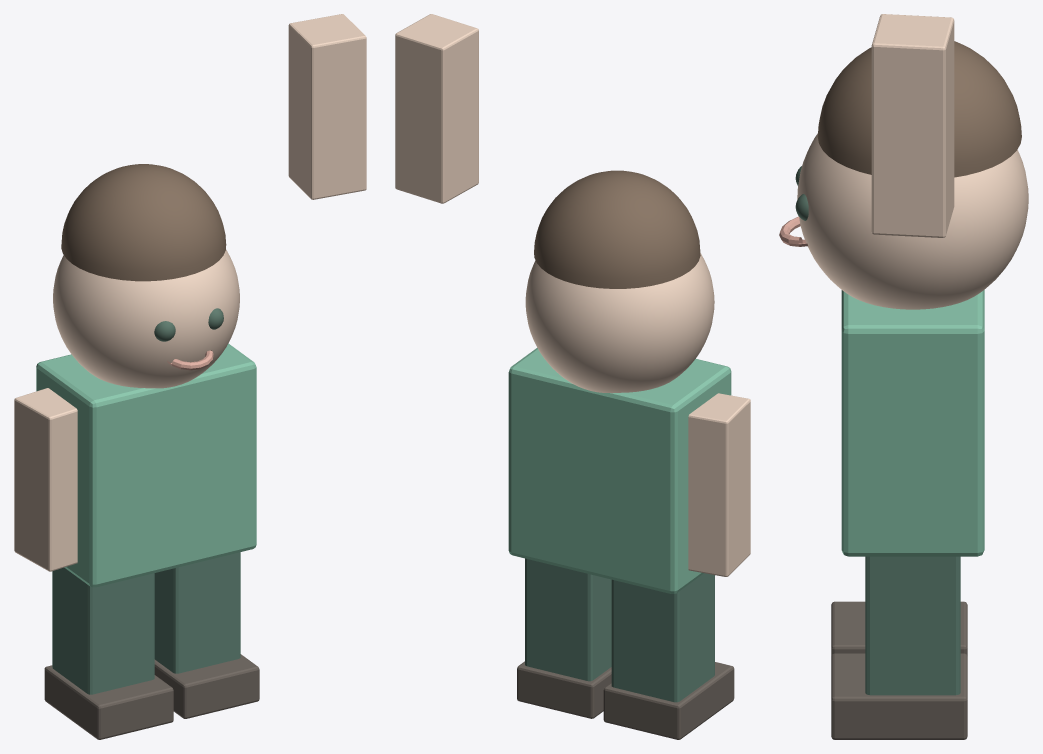
The model's file is character.glb.
3 views of the same model, side by side, from view 1: azimuth 30°, elevation 25°; view 2: azimuth 150°, elevation 25°; view 3: azimuth 270°, elevation 25° (orthographic). The views are drawn at different scales.
Visible parts, largest first — view 1: Shirt, Head, Hair, ArmRLimb, PantsL, ArmL, PantsR, ShoesL, ShoesR; view 2: Shirt, Head, Hair, ArmRLimb, PantsL, ArmL, PantsR, ShoesL, ShoesR; view 3: Shirt, Head, ArmRLimb, PantsR, Hair, ShoesR, ShoesL, Smile.
Boxes of the visible parts, x1,y1,x2,y2 form: Shirt: [36, 343, 256, 587]; Head: [53, 249, 239, 388]; Hair: [61, 164, 226, 281]; ArmRLimb: [288, 14, 366, 199]; PantsL: [52, 567, 154, 694]; ArmL: [14, 388, 77, 571]; PantsR: [154, 552, 240, 673]; ShoesL: [44, 665, 173, 739]; ShoesR: [154, 654, 259, 718]; Shirt: [508, 348, 731, 593]; Head: [525, 253, 714, 393]; Hair: [534, 170, 700, 288]; ArmRLimb: [395, 14, 478, 203]; PantsL: [611, 573, 714, 702]; ArmL: [688, 393, 750, 576]; PantsR: [525, 558, 611, 681]; ShoesL: [603, 662, 734, 739]; ShoesR: [517, 661, 611, 718]; Shirt: [841, 290, 984, 556]; Head: [797, 133, 1028, 309]; ArmRLimb: [871, 14, 954, 237]; PantsR: [865, 556, 960, 695]; Hair: [817, 41, 1021, 177]; ShoesR: [831, 653, 967, 739]; ShoesL: [831, 601, 967, 656]; Smile: [779, 216, 807, 246].
Size of the model in its own units: 1.38 by 2.5 by 0.7331.
